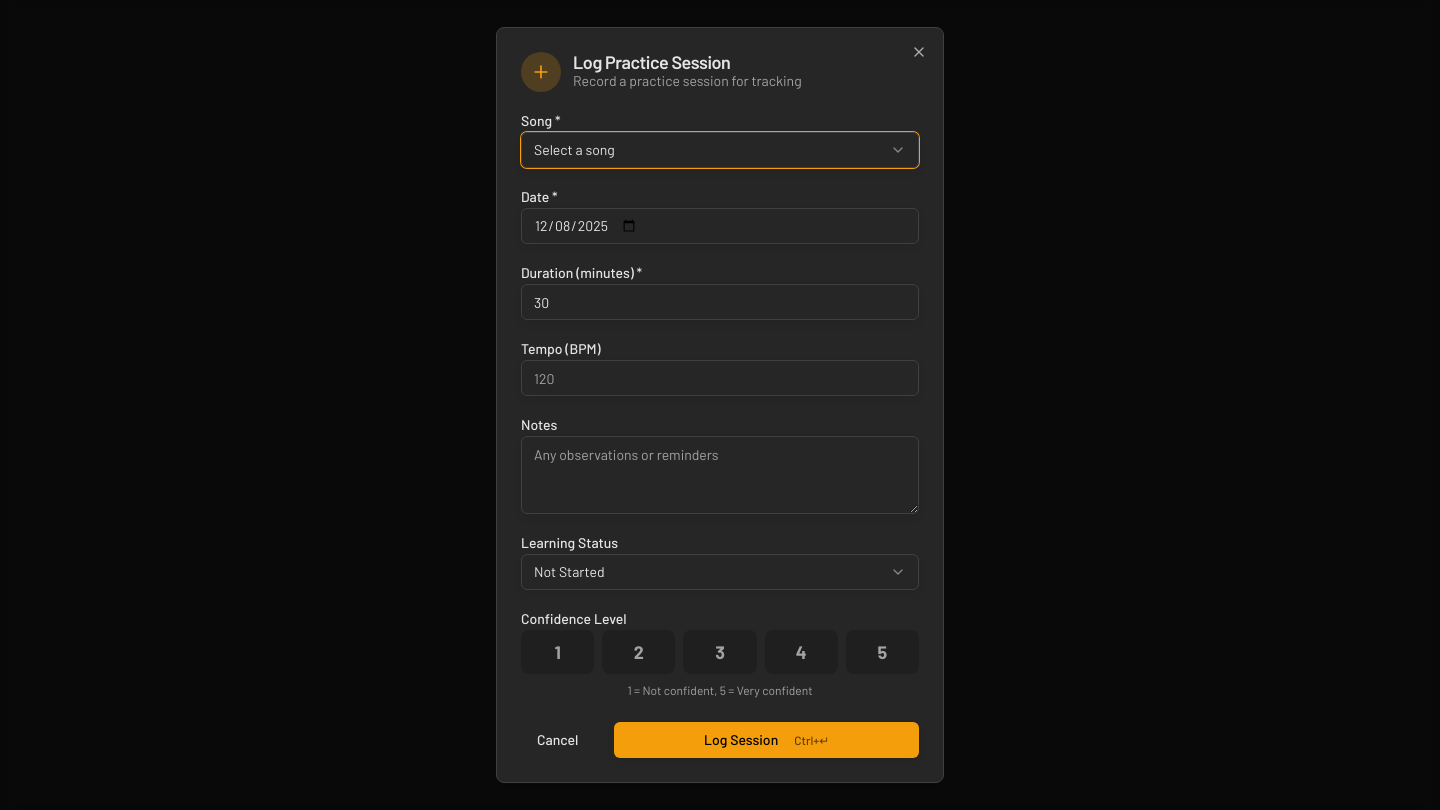
Test: LogPracticeModal › validation errors › should show error when song is not selected
This screenshot has width=1440, height=810.
Click the button "Log Session Ctrl+↵" at (767, 740), box left=614, top=722, right=919, bottom=758
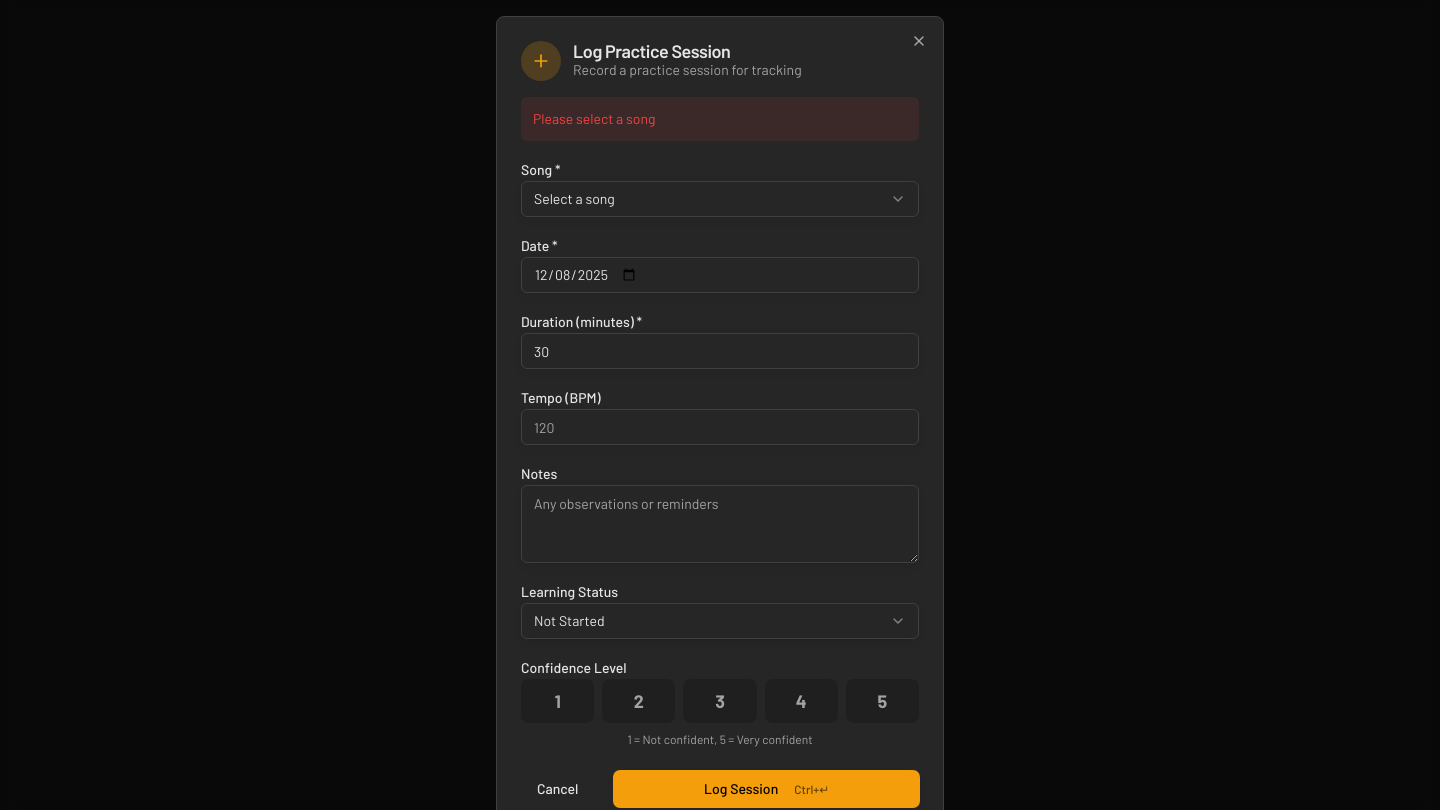
Expected: the text "Please select a song" is shown, left=521, top=97, right=919, bottom=141
